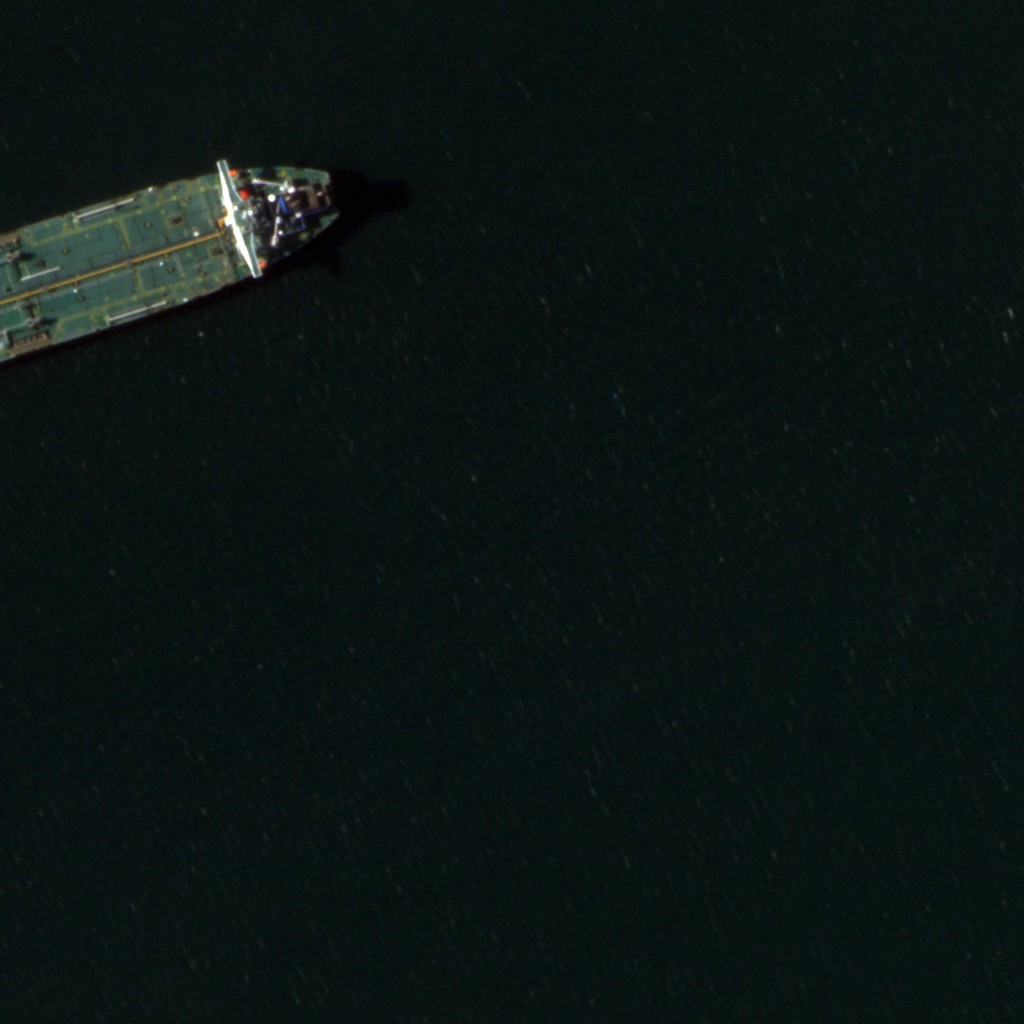boats: (0, 156, 338, 368)
